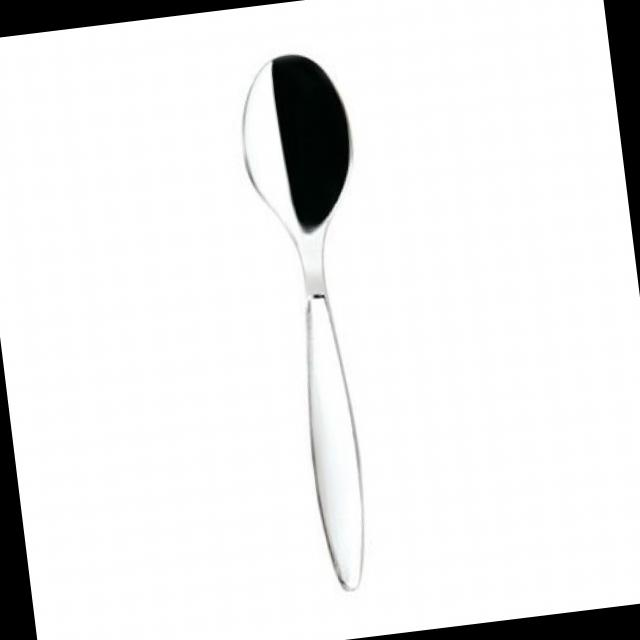spoon: (229, 45, 412, 598)
